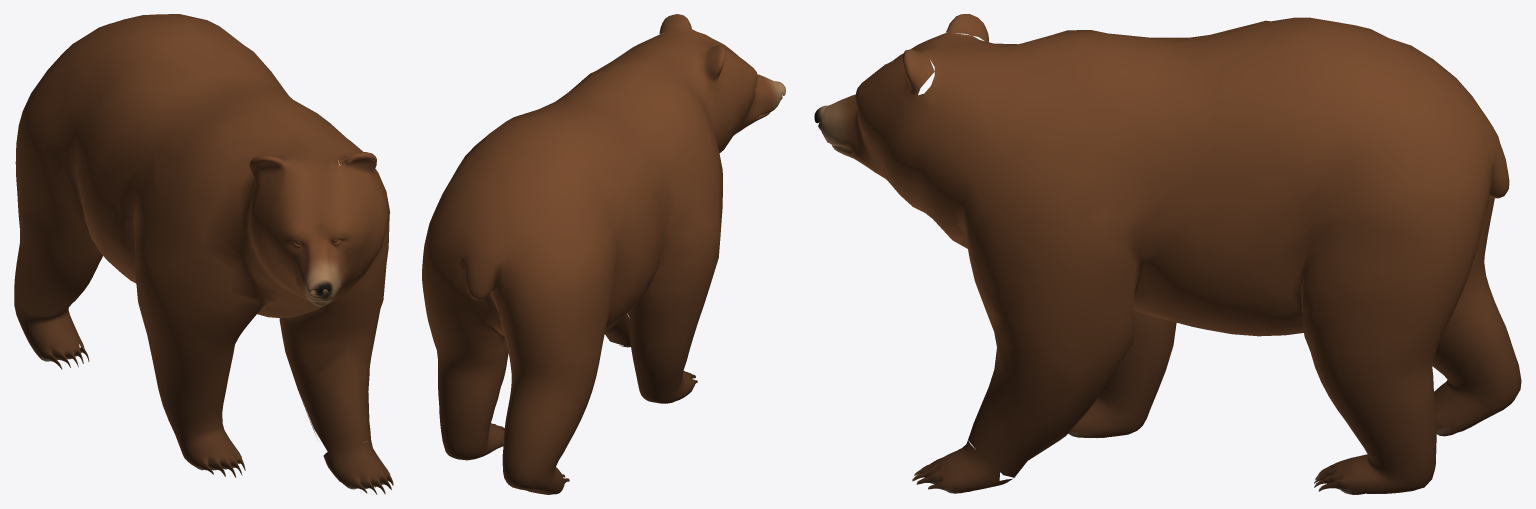
Rendered from urso.glb.
The picture shows the model from 3 angles, left to right: view 1: azimuth 30°, elevation 25°; view 2: azimuth 150°, elevation 25°; view 3: azimuth 270°, elevation 25°; orthographic projection. The views are drawn at different scales.
Visible parts, largest first — view 1: Urso; view 2: Urso; view 3: Urso.
Part boxes in pixels (<box>): Urso: <box>14,14,393,494</box>; Urso: <box>422,14,785,494</box>; Urso: <box>814,14,1521,494</box>.
Bounding box in the file's own units: 0.3933 × 0.6642 × 1.
